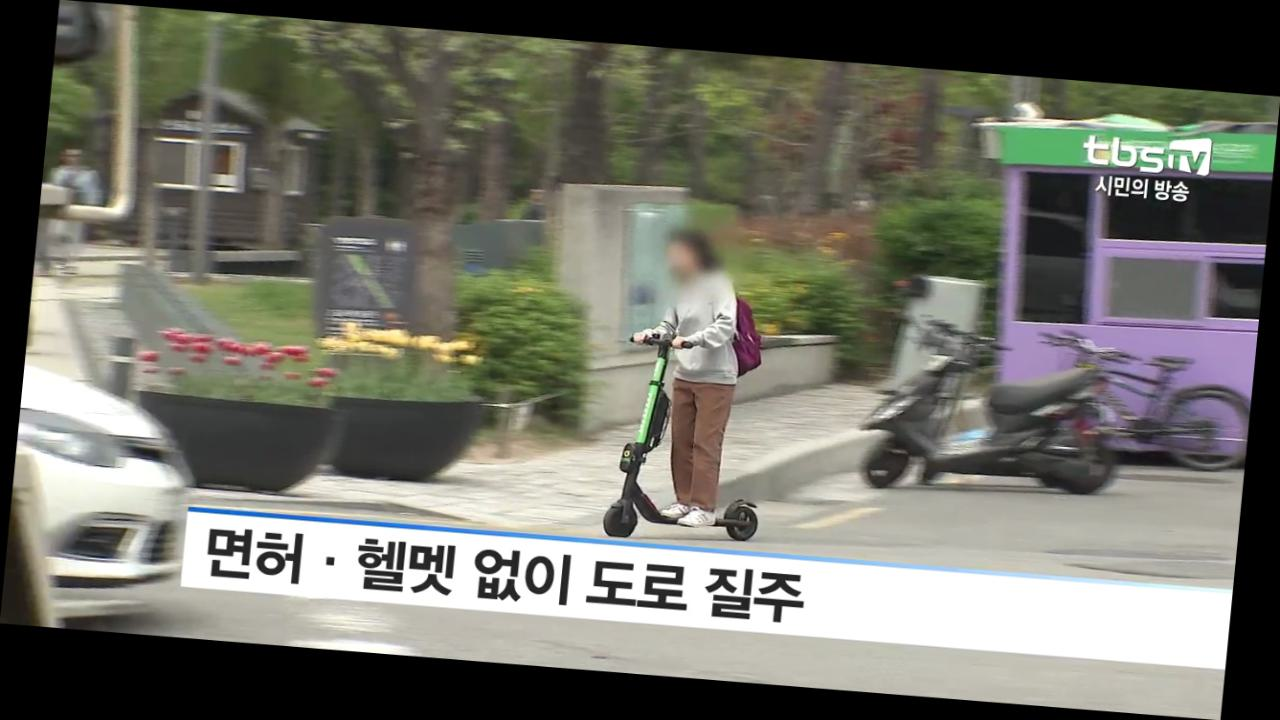nonhelmet: (596, 223, 794, 551)
